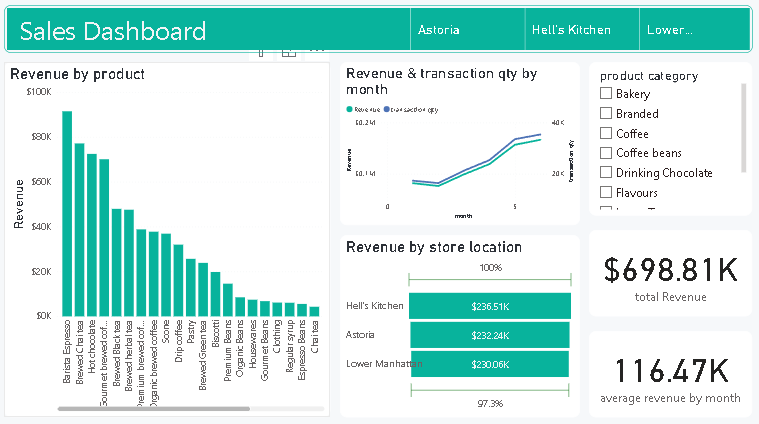

What the dashboard file says about the page in this screenshot:
{"tool":"powerbi","page":{"name":"Sales_Dashboard","canvas":[1280,720],"ordinal":0},"visuals":[{"type":"columnChart","fields":{"Category":["tc.product_type"],"Y":["tc.Revenue"]},"box":[16,112,544,592],"z":0},{"type":"lineChart","title":"Revenue & transaction qty by month","fields":{"Category":["calender.month"],"Y":["tc.Revenue"],"Y2":["CountNonNull(tc.transaction_qty)"]},"box":[576,112,400,272],"z":0,"group":"g2"},{"type":"card","fields":{"Values":["tc.avg_revenue"]},"box":[992,560,272,144],"z":0,"group":"g1"},{"type":"shape","box":[16,16,1248,80],"z":1000},{"type":"card","fields":{"Values":["tc.Revenue"]},"box":[992,392,272,144],"z":1000,"group":"g1"},{"type":"funnel","fields":{"Category":["tc.store_location"],"Y":["tc.Revenue"]},"box":[576,400,400,304],"z":1000,"group":"g2"},{"type":"group","id":"g1","title":"Group 1","box":[992,112,272,592],"z":2000},{"type":"slicer","fields":{"Values":["tc.product_category"]},"box":[992,112,272,256],"z":2000,"group":"g1"},{"type":"advancedSlicerVisual","fields":{"Values":["tc.store_location"]},"box":[688,16,576,80],"z":3000},{"type":"group","id":"g2","title":"Group 2","box":[576,112,400,592],"z":4000}]}

Visuals, with their boxes in screenshot pixels (x1, y1, x2, y2), scaled from the page's 1280x720 canvas onto the 759x424 screenshot:
columnChart - tc.product_type x tc.Revenue: region(9, 66, 332, 415)
"Revenue & transaction qty by month" lineChart: region(342, 66, 579, 226)
card - tc.avg_revenue: region(588, 330, 750, 415)
shape: region(9, 9, 750, 57)
card - tc.Revenue: region(588, 231, 750, 316)
funnel - tc.store_location x tc.Revenue: region(342, 236, 579, 415)
"Group 1" group: region(588, 66, 750, 415)
slicer - tc.product_category: region(588, 66, 750, 217)
advancedSlicerVisual - tc.store_location: region(408, 9, 750, 57)
"Group 2" group: region(342, 66, 579, 415)
